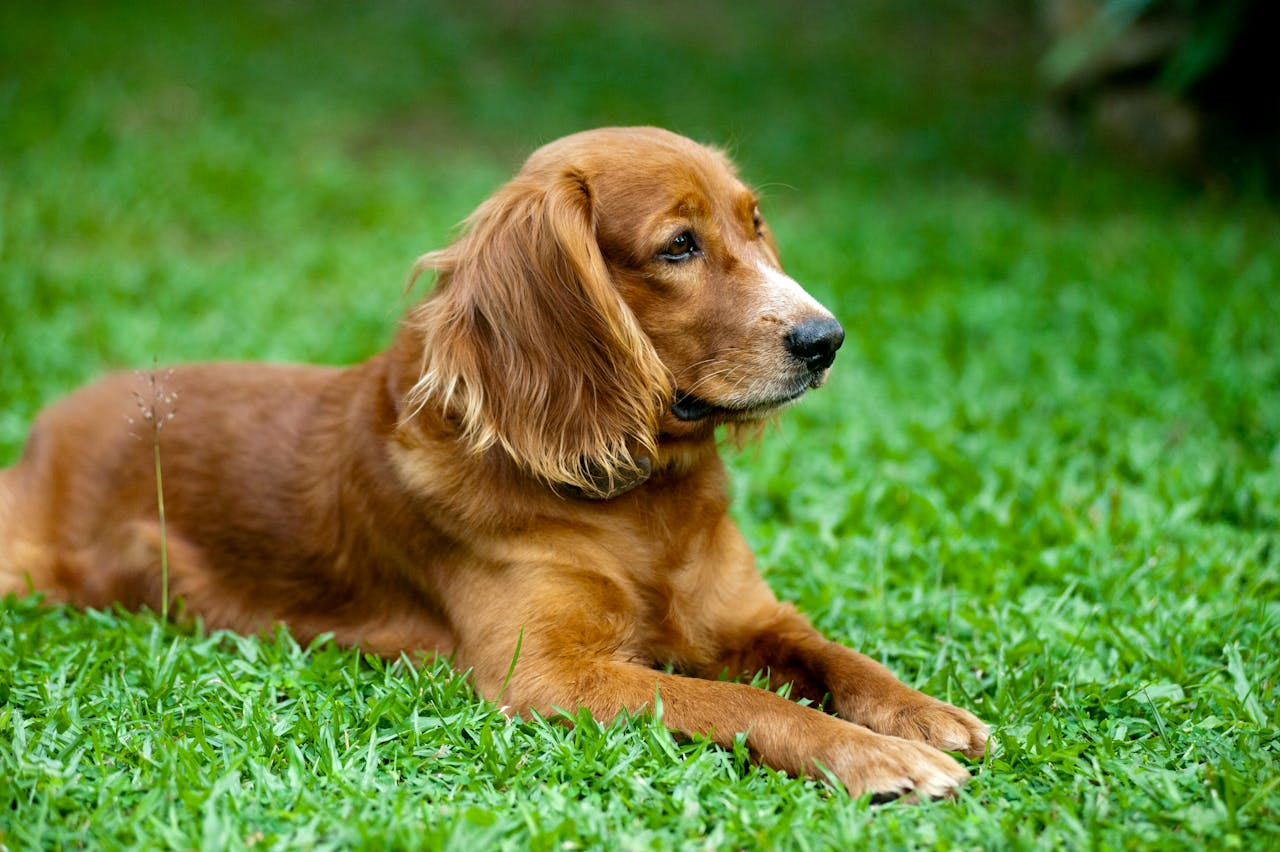dog: (20, 76, 1011, 807)
